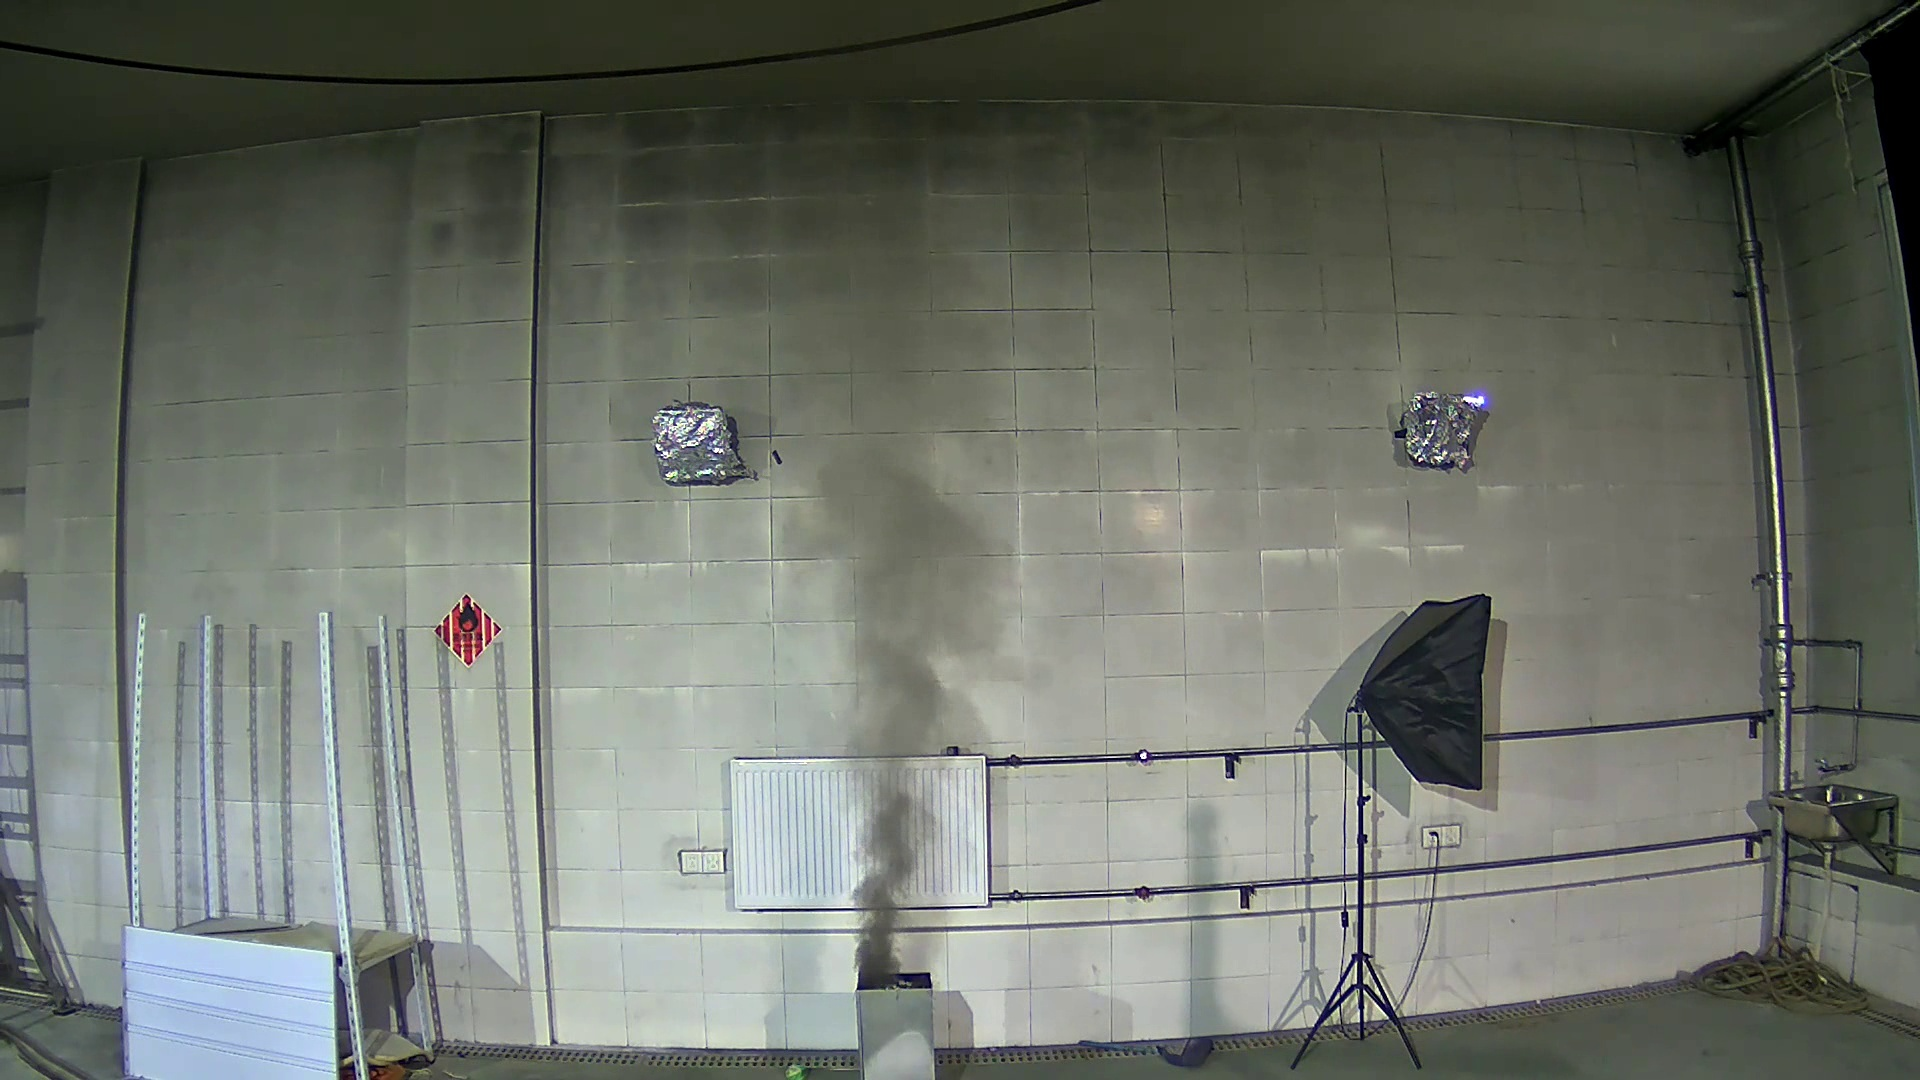smoke: (769, 433, 1011, 980)
